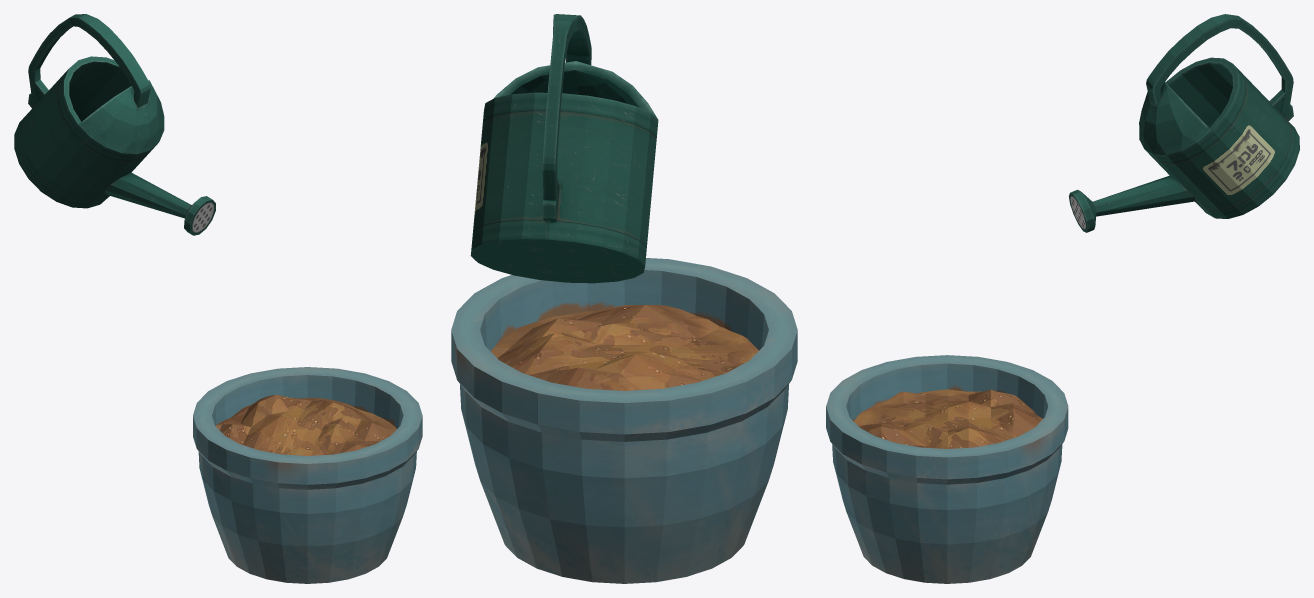
The model's file is P_FlowerPot_007_S1_M01.obj.
The picture shows the model from 3 angles, left to right: view 1: azimuth 30°, elevation 25°; view 2: azimuth 150°, elevation 25°; view 3: azimuth 270°, elevation 25°; orthographic projection. The views are drawn at different scales.
Bounding box in the file's own units: 0.7767 × 1.37 × 1.22.
Materials: 3 (3 with a texture image).
